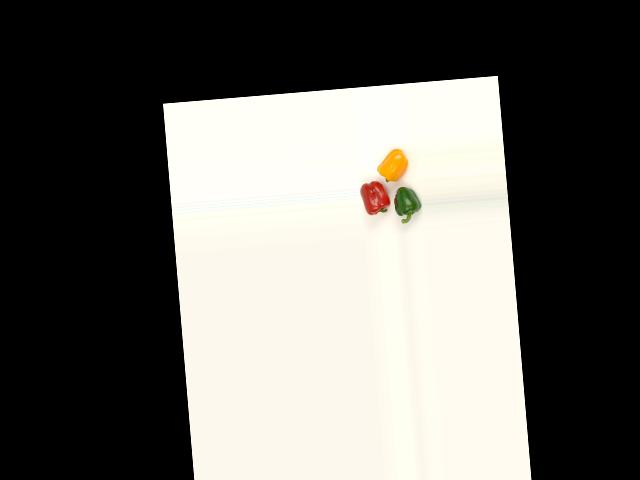bell_pepper: (391, 185, 423, 225)
